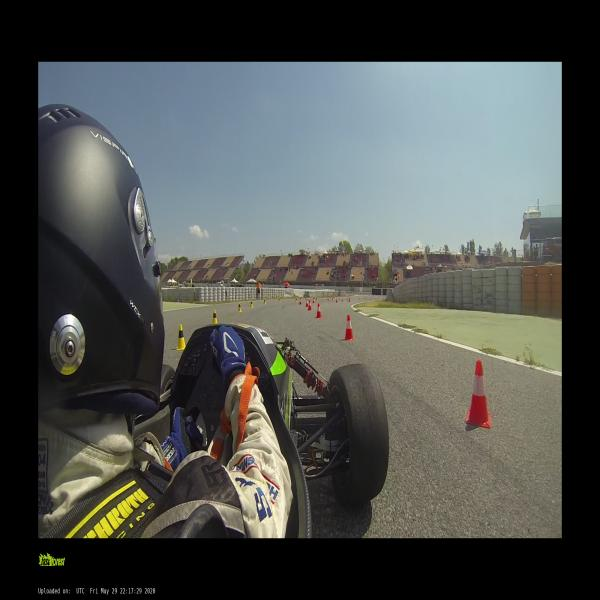orange_cone: (465, 360, 492, 428), (343, 315, 355, 340), (315, 303, 322, 318), (308, 300, 312, 310), (306, 299, 308, 307), (300, 298, 302, 304), (313, 298, 315, 303), (336, 298, 337, 302)
yellow_cone: (177, 324, 185, 348), (213, 309, 218, 323), (238, 302, 241, 312), (264, 299, 266, 304), (251, 300, 252, 308), (322, 296, 324, 299), (296, 298, 297, 302), (279, 298, 280, 302), (316, 297, 317, 301), (305, 297, 306, 299), (314, 296, 315, 298)
